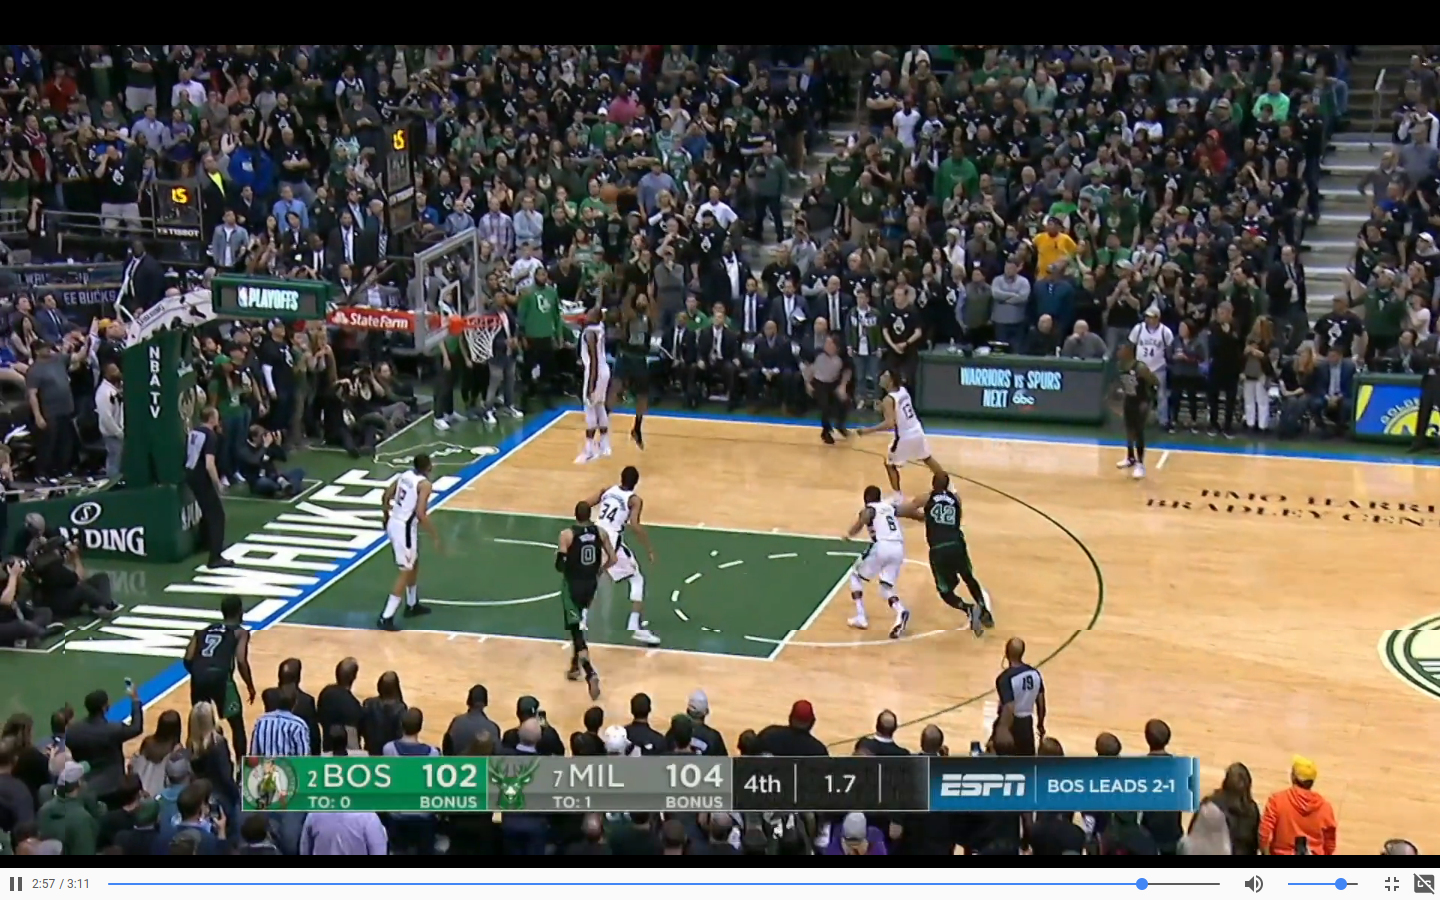basketball: (598, 185, 624, 208)
basketball player: (922, 468, 998, 646), (555, 503, 616, 705), (842, 485, 921, 637), (592, 465, 653, 656), (179, 594, 262, 731), (376, 446, 438, 629), (870, 365, 955, 491), (612, 280, 662, 465), (567, 306, 622, 474), (1107, 339, 1153, 483)
referee: (988, 637, 1050, 742), (804, 336, 852, 445)
